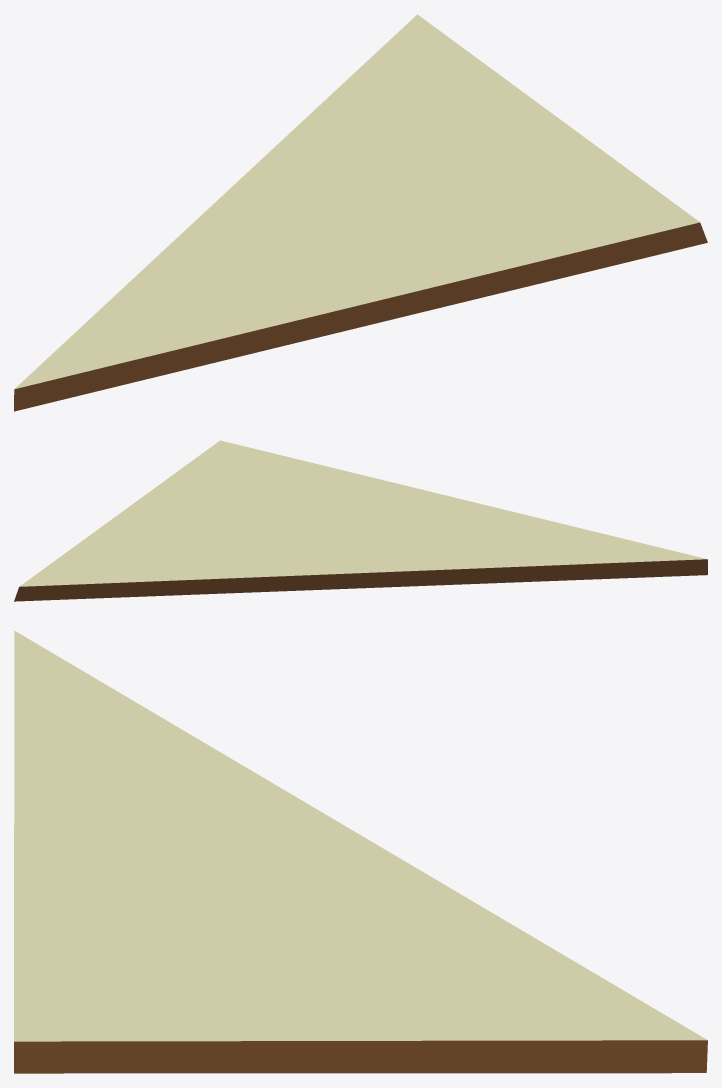
The model's file is splitLogRoofSmallCornerRightLowContent.glb.
3 renders of one model, top to bottom at view 1: azimuth 30°, elevation 25°; view 2: azimuth 150°, elevation 25°; view 3: azimuth 270°, elevation 25°, orthographic. The views are drawn at different scales.
Visible parts, largest first — view 1: Cylinder; view 2: Cylinder; view 3: Cylinder.
Boxes of the visible parts, x1,y1,x2,y2 form: Cylinder: (14, 14, 707, 411); Cylinder: (14, 440, 707, 601); Cylinder: (14, 630, 707, 1073).
Size of the model in its own units: 3.08 by 0.0987 by 2.17.
